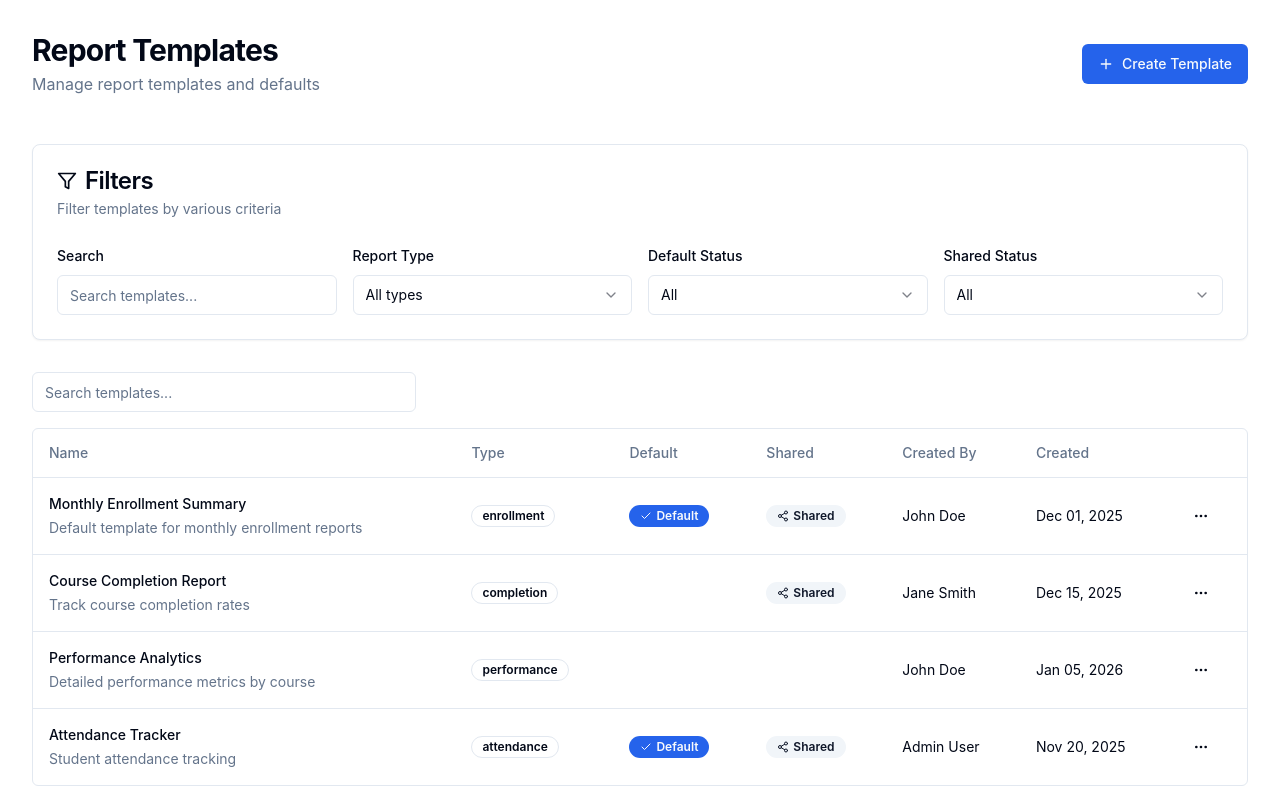
Test: ReportTemplatesPage › Edit Template › should open edit modal when edit action is clicked
Expected: the text "Monthly Enrollment Summary" is shown, [49, 494, 246, 512]
Click the button named "open menu" in the row of "Monthly Enrollment Summary".
click(1201, 516)  # box [1185, 500, 1217, 532]
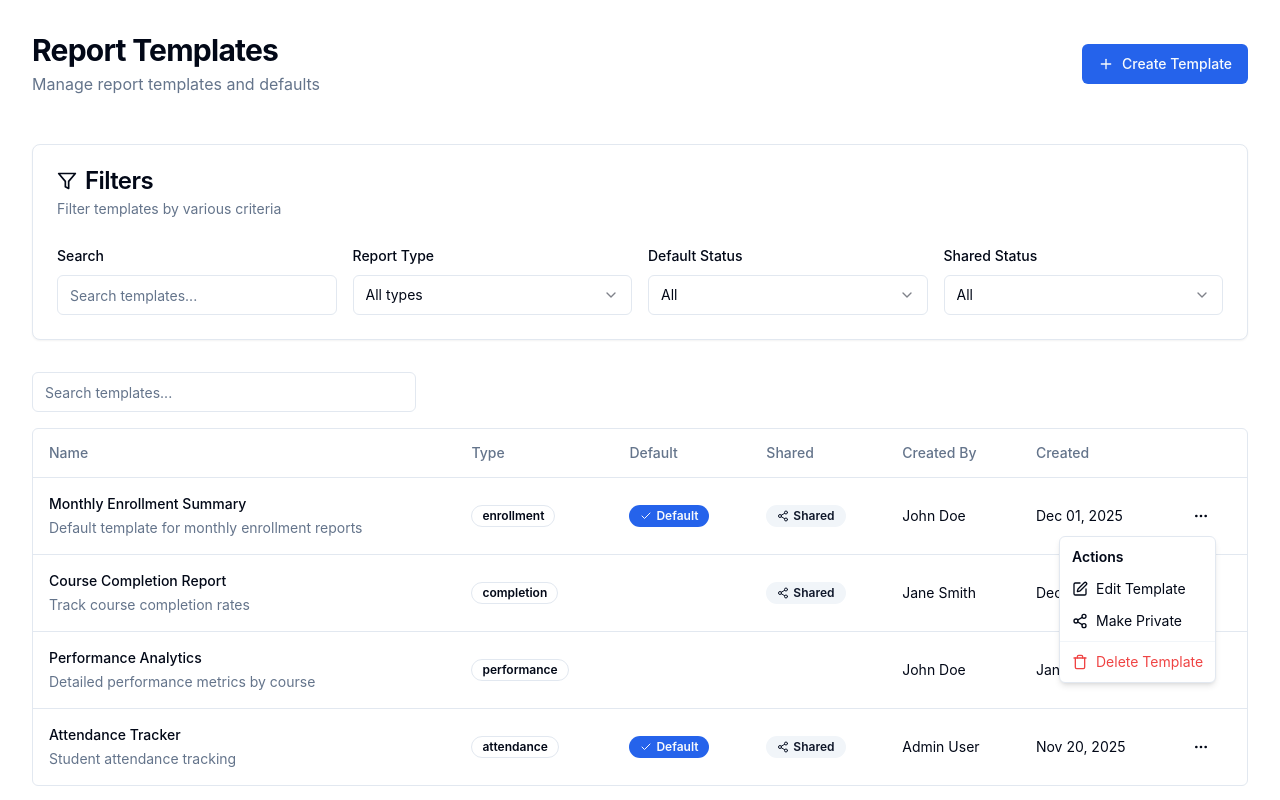
Click the menu item "Edit Template".
click(1129, 588)  # box [1072, 580, 1186, 597]
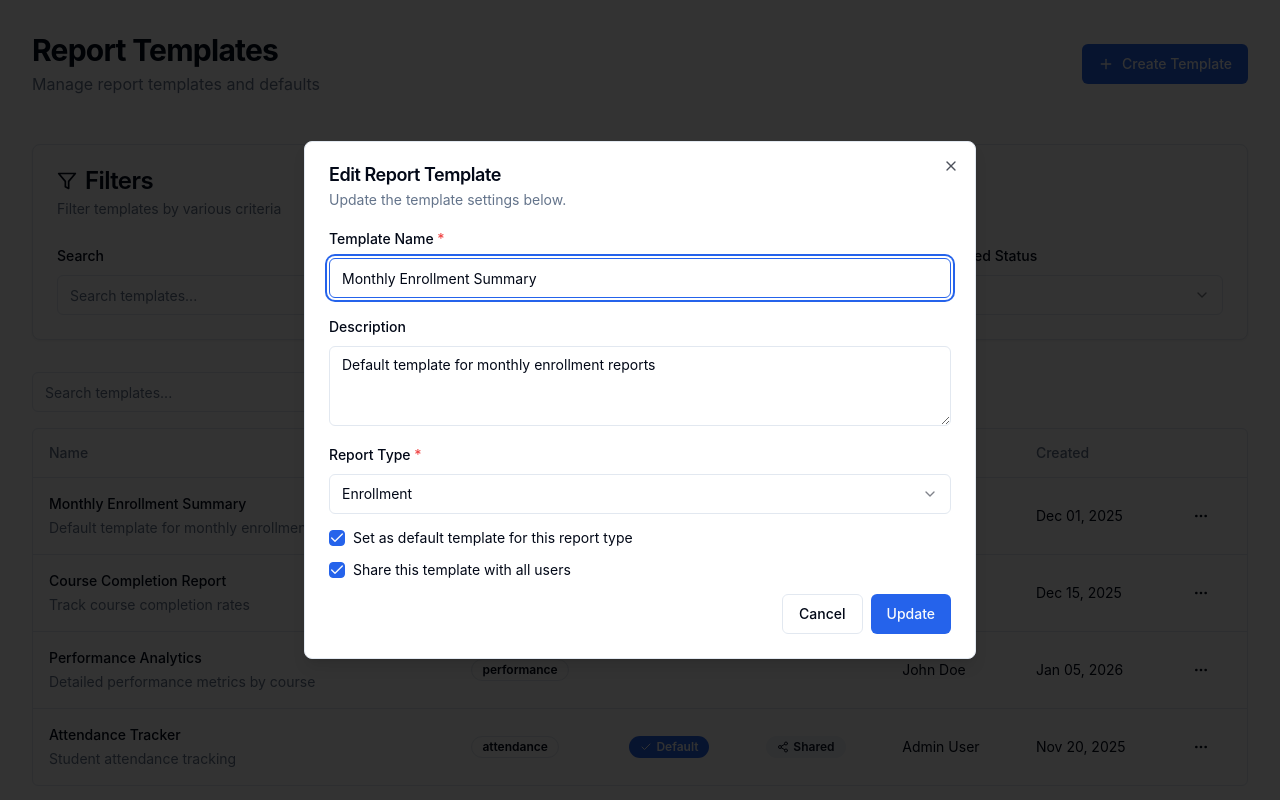
Result: the dialog with test id "template-form-dialog" is shown at [304, 141, 976, 659]
Result: the heading "Edit Report Template" is shown at [329, 164, 501, 185]
